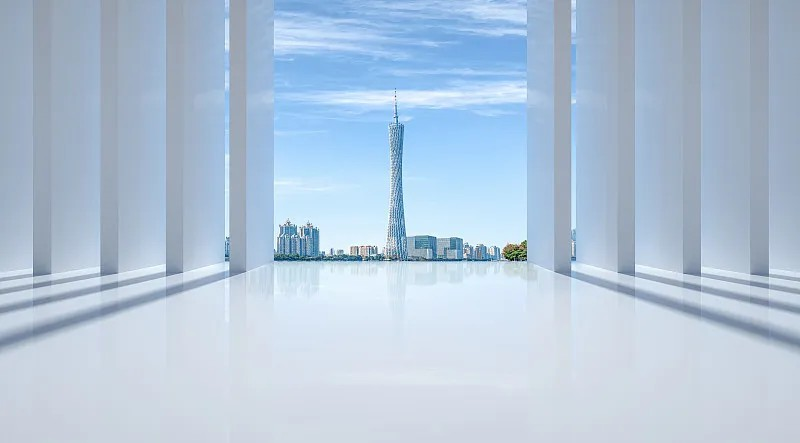Canton: (387, 88, 408, 262)
